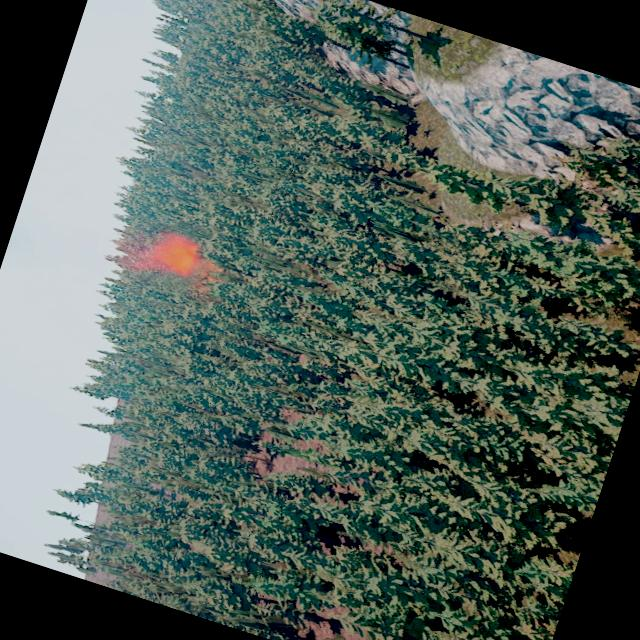smoke: (104, 214, 228, 296)
